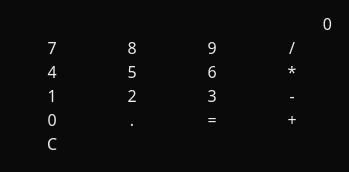
Calculator Error Handling & Edge Cases › shows 'Error' for division by zero
Click the button "8".
click(132, 48)  # box [92,36,172,60]
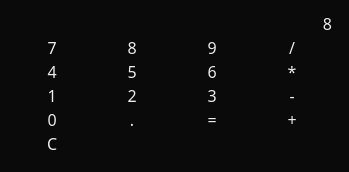
Click the button "/".
click(292, 48)  # box [252,36,332,60]
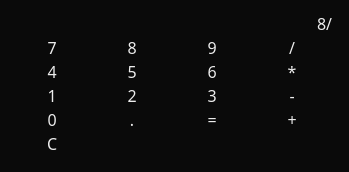
Click the button "0".
click(52, 120)  # box [12,108,92,132]
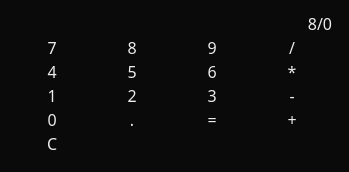
Click the button "=".
click(212, 120)  # box [172,108,252,132]
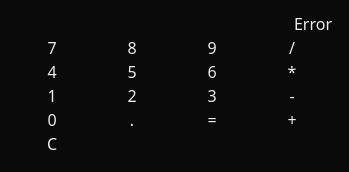
Now the text with test id "display" reads "Error", box [294,13,332,35]
